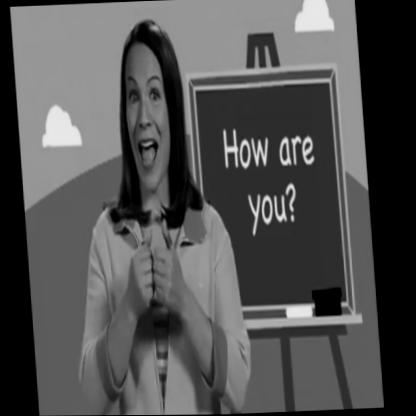HowAreYou: (108, 218, 217, 354)
